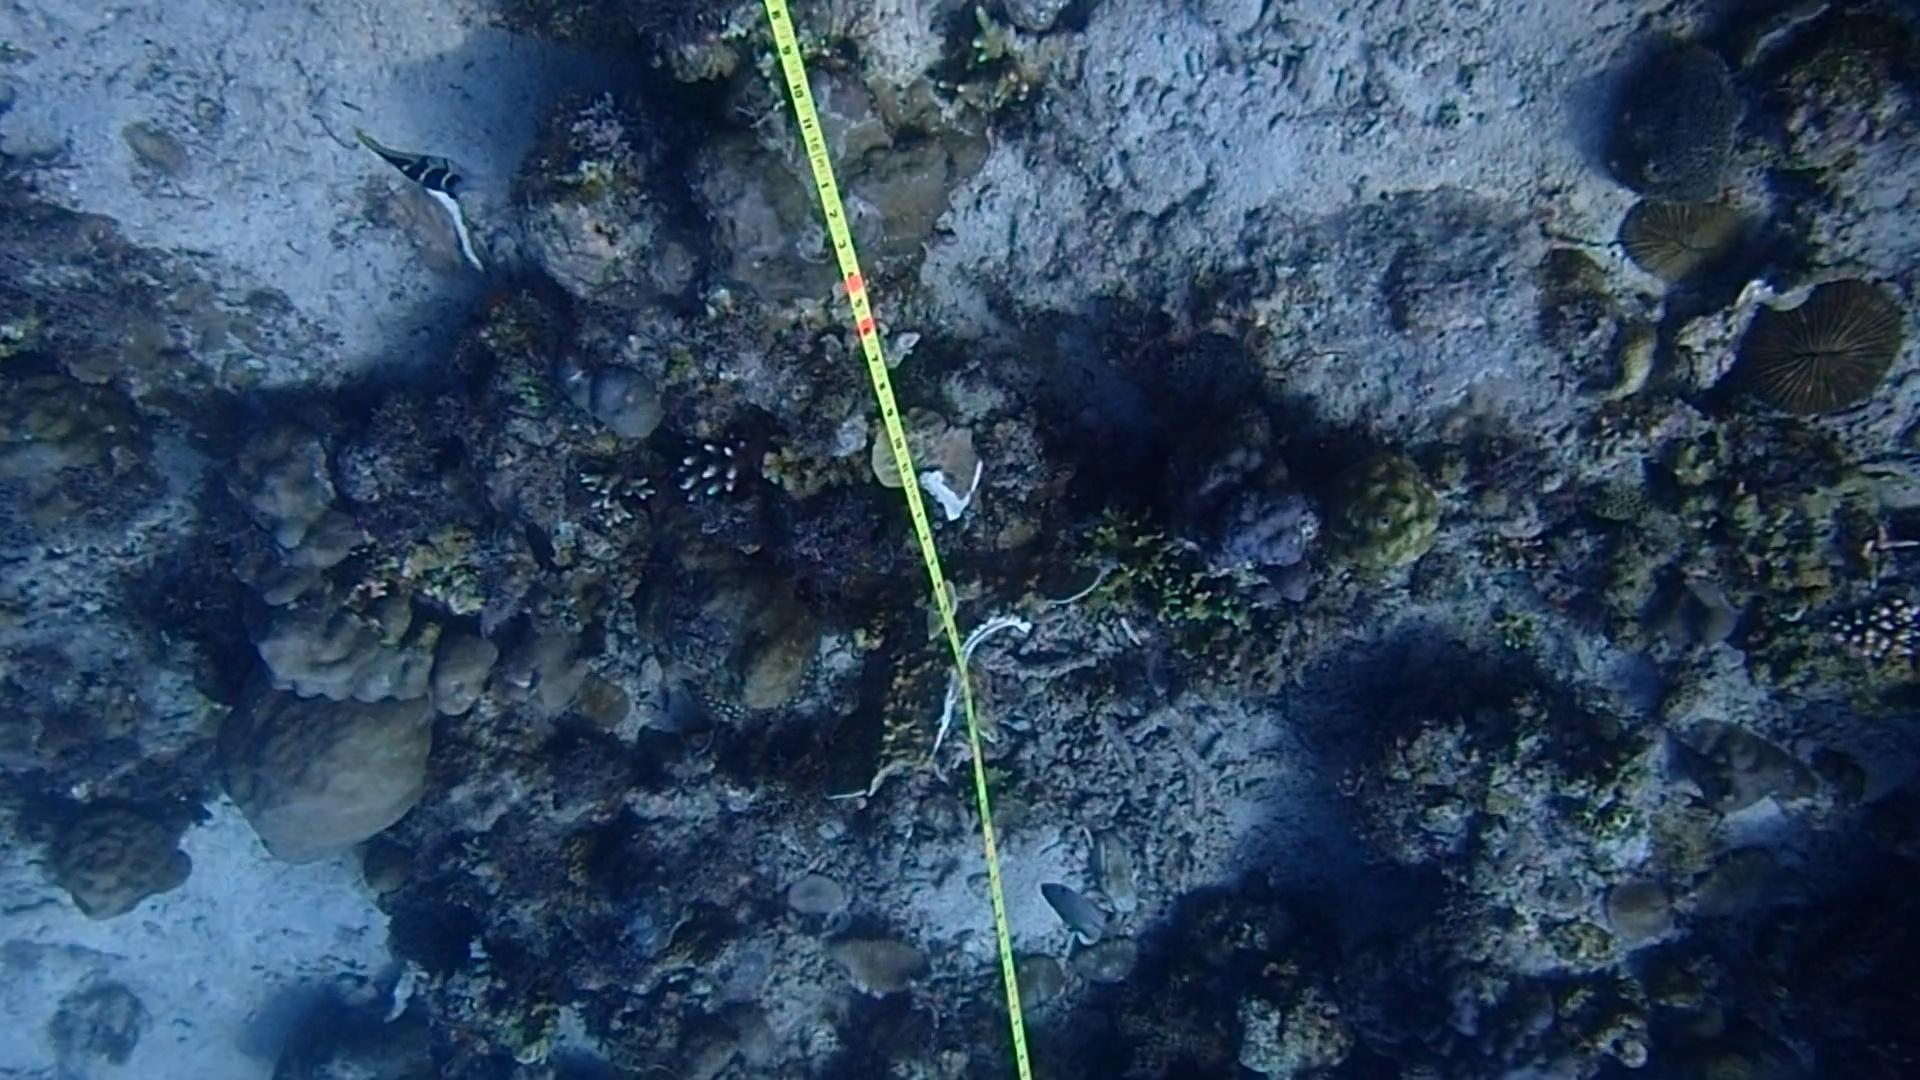Striped Fish: (357, 112, 508, 212)
